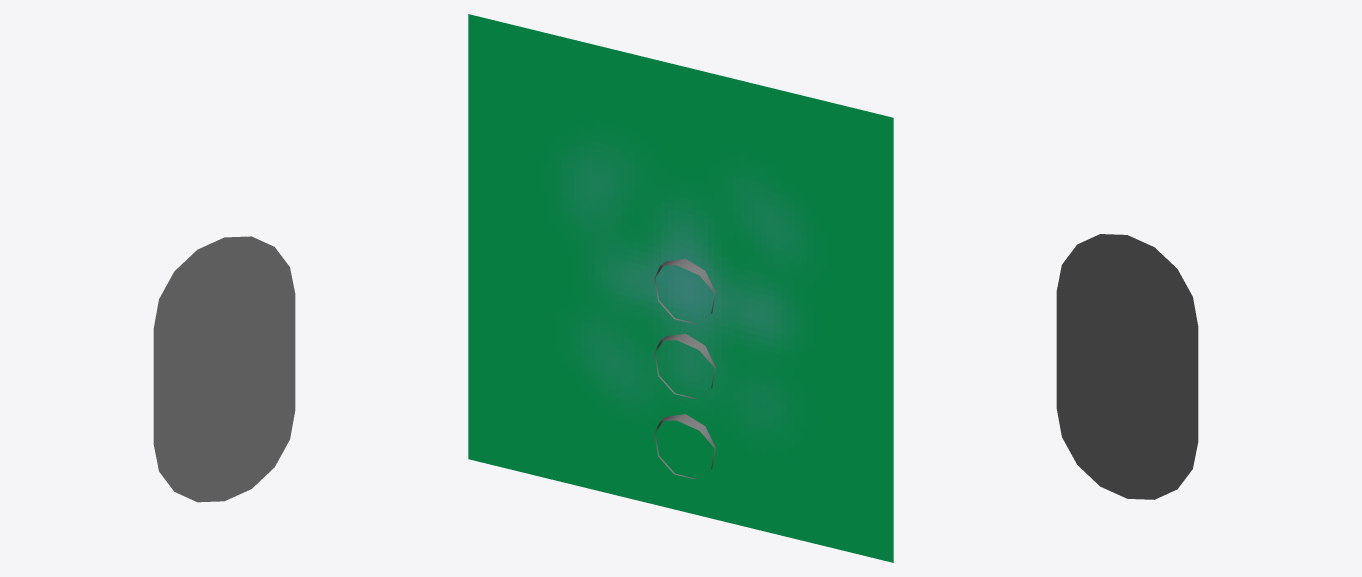
The model's file is SIGNAL_BLUE.glb.
3 renders of one model, left to right at view 1: azimuth 30°, elevation 25°; view 2: azimuth 150°, elevation 25°; view 3: azimuth 330°, elevation 25°, orthographic.
Parts seen in each view (by area): view 1: Model; view 2: Model; view 3: Model.
Boxes of the visible parts, x1,y1,x2,y2 form: Model: (153,236,295,502); Model: (468,14,893,562); Model: (1056,234,1198,499).
Size of the model in its own units: 6 by 6 by 0.283.
Materials: 2 (1 with a texture image).
